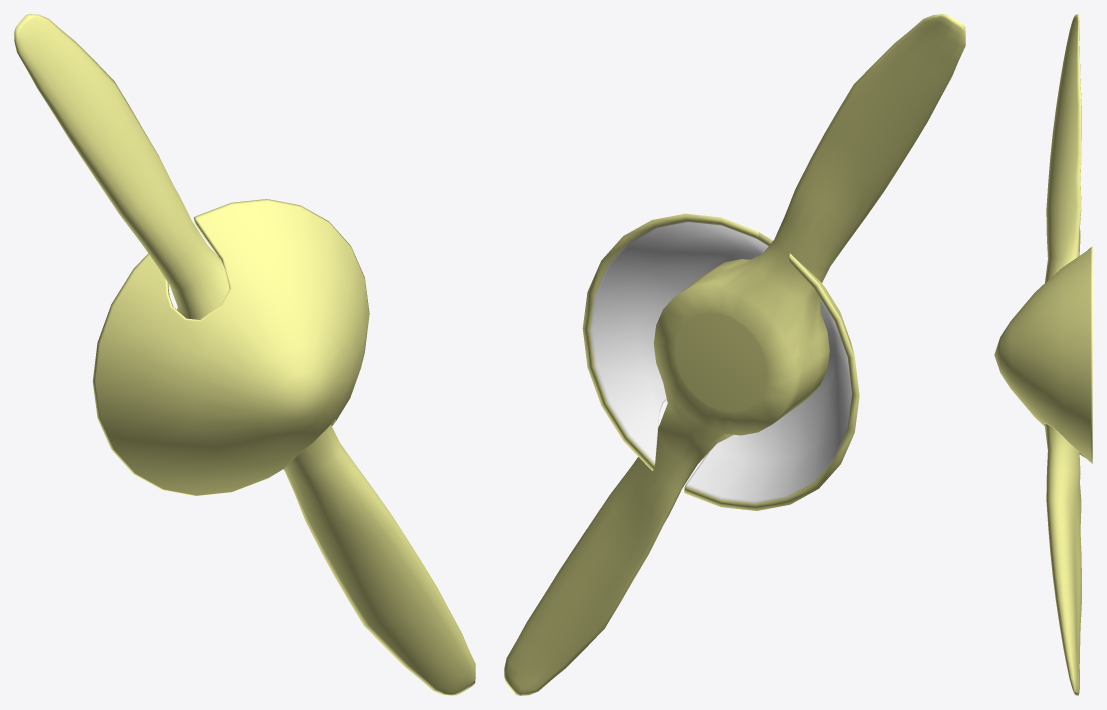
Rendered from elica.obj.
3 views of the same model, side by side, from view 1: azimuth 30°, elevation 25°; view 2: azimuth 150°, elevation 25°; view 3: azimuth 270°, elevation 25° (orthographic). The views are drawn at different scales.
Visible parts, largest first — view 1: PropCone, Prop; view 2: Prop, PropCone; view 3: Prop, PropCone.
Part boxes in pixels (x1,y1,x2,y2): PropCone: (92,199,369,496); Prop: (14,14,475,695); Prop: (504,14,965,695); PropCone: (582,213,859,510); Prop: (1044,14,1081,695); PropCone: (994,246,1092,463).
Bounding box in the file's own units: 0.9279 × 1.51 × 0.2506.
